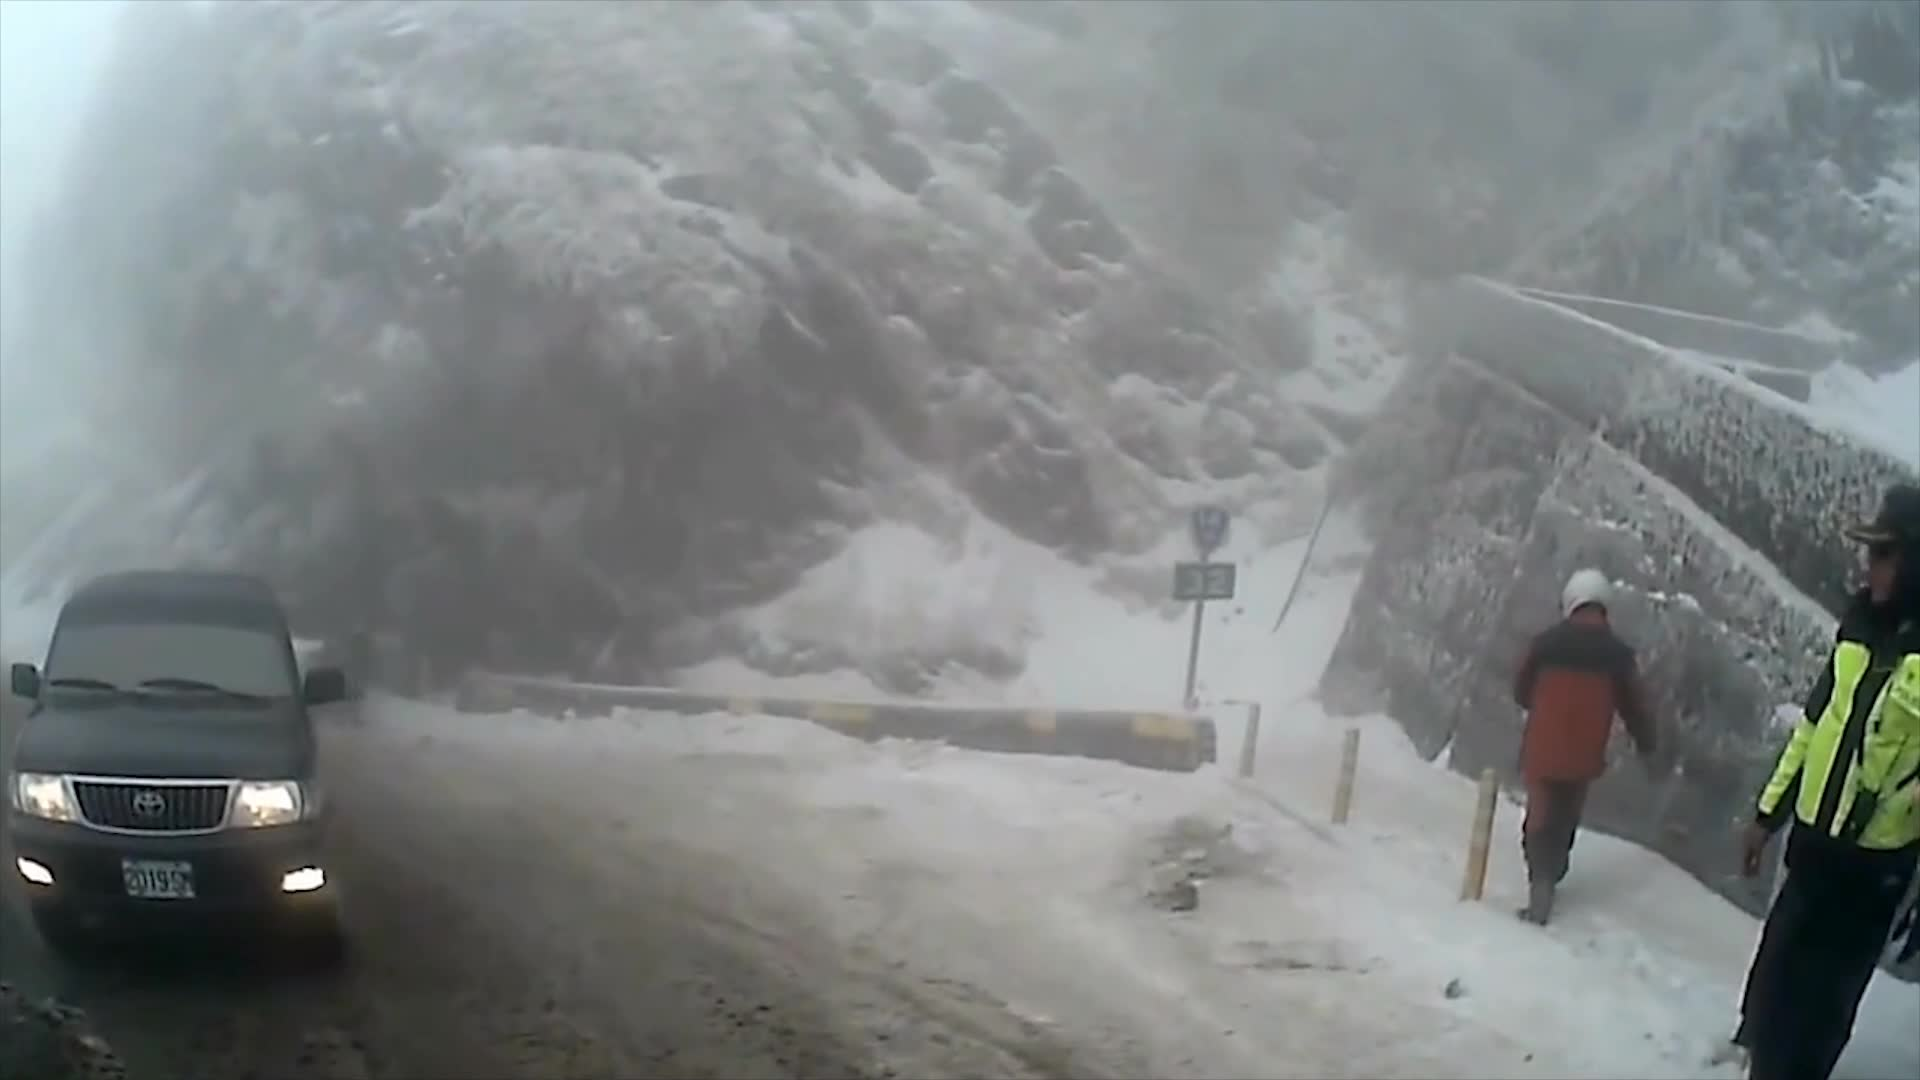pedestrian: (1706, 493, 1920, 1080), (1508, 572, 1653, 926)
vehicle: (5, 567, 345, 947)
